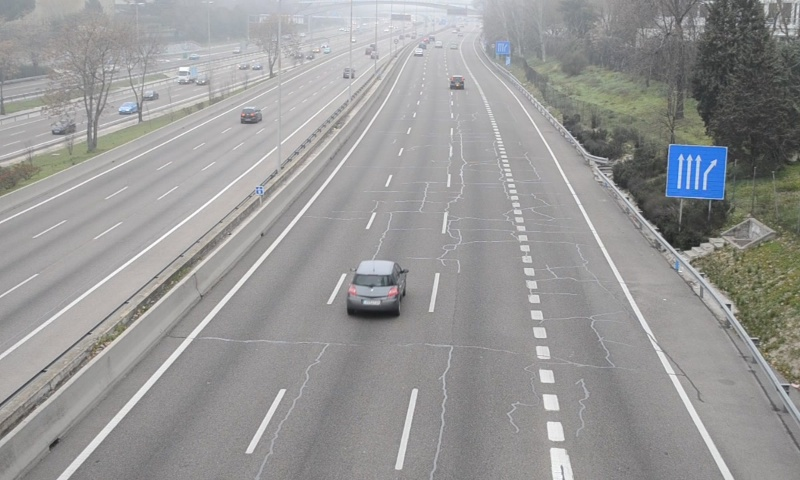car: (346, 260, 404, 311), (450, 76, 464, 91)
